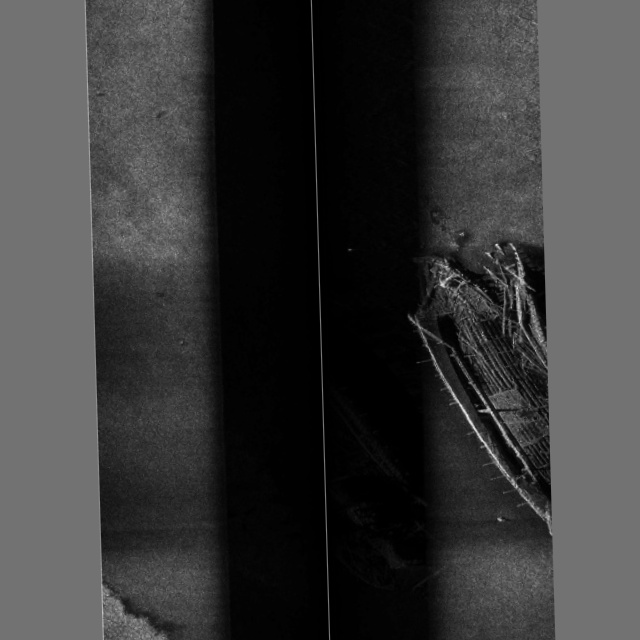Shipwreck: (317, 230, 554, 595)
